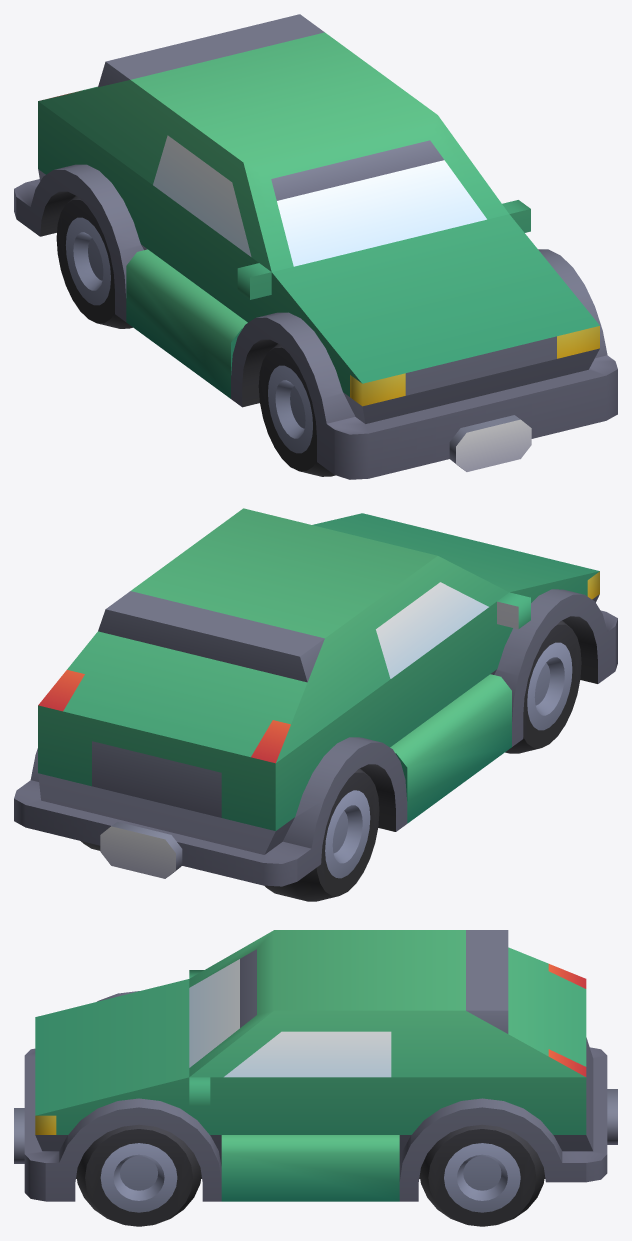
The model's file is car-hatchback-sports.obj.
3 renders of one model, top to bottom at view 1: azimuth 30°, elevation 25°; view 2: azimuth 150°, elevation 25°; view 3: azimuth 270°, elevation 25°, orthographic. The views are drawn at different scales.
Visible parts, largest first — view 1: body, wheel-back-right, wheel-front-right; view 2: body, wheel-back-right, wheel-front-right; view 3: body, wheel-front-left, wheel-back-left.
Part boxes in pixels (bbox=[...]): body: bbox=[14, 14, 617, 479]; wheel-back-right: bbox=[56, 196, 132, 328]; wheel-front-right: bbox=[258, 343, 335, 476]; body: bbox=[14, 508, 617, 886]; wheel-back-right: bbox=[264, 768, 379, 901]; wheel-front-right: bbox=[505, 620, 581, 753]; body: bbox=[14, 930, 617, 1201]; wheel-front-left: bbox=[76, 1124, 201, 1226]; wheel-back-left: bbox=[419, 1124, 544, 1226].
Size of the model in its own units: 1.3 by 1.1 by 2.85.
